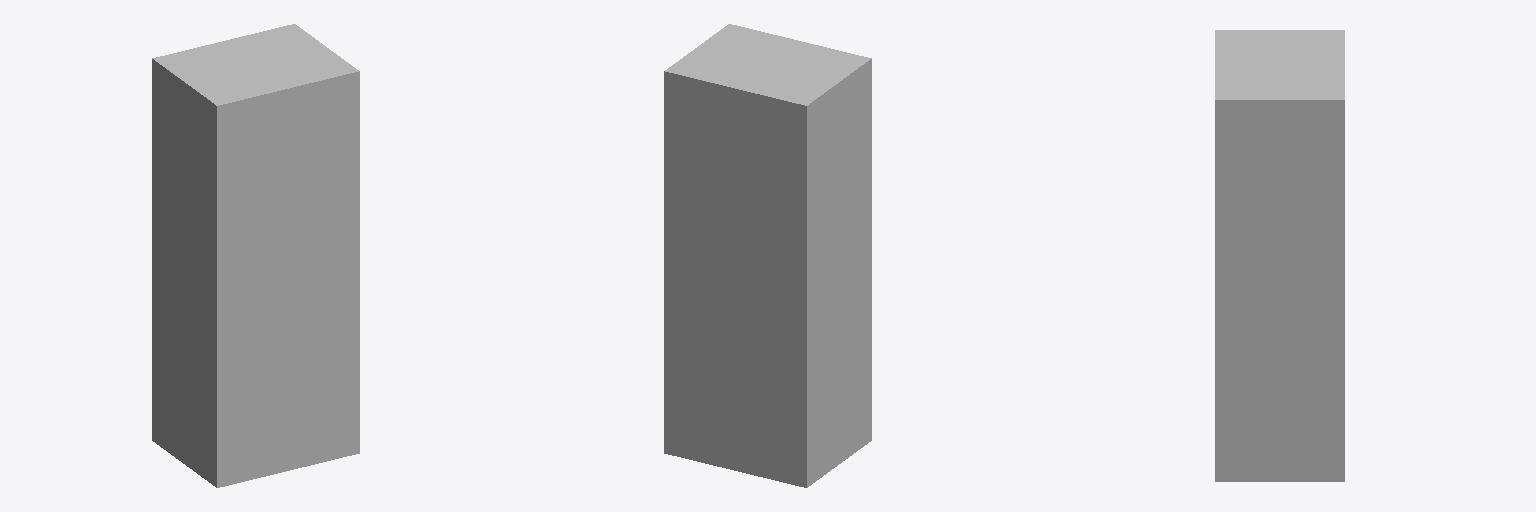
Rendered from BotBox.obj.
3 renders of one model, left to right at view 1: azimuth 30°, elevation 25°; view 2: azimuth 150°, elevation 25°; view 3: azimuth 270°, elevation 25°, orthographic.
Parts seen in each view (by area): view 1: Big_Cube_Cube.004, Cube_Cube.005; view 2: Big_Cube_Cube.004, Cube_Cube.005; view 3: Cube_Cube.005, Big_Cube_Cube.004.
Part boxes in pixels (left/top/right/bottom): Big_Cube_Cube.004: left=152, top=61, right=359, bottom=487; Cube_Cube.005: left=152, top=24, right=359, bottom=487; Big_Cube_Cube.004: left=664, top=62, right=871, bottom=487; Cube_Cube.005: left=664, top=24, right=871, bottom=487; Cube_Cube.005: left=1215, top=30, right=1344, bottom=481; Big_Cube_Cube.004: left=1215, top=102, right=1344, bottom=481.
Size of the model in its own units: 1.01 by 2.59 by 0.799.